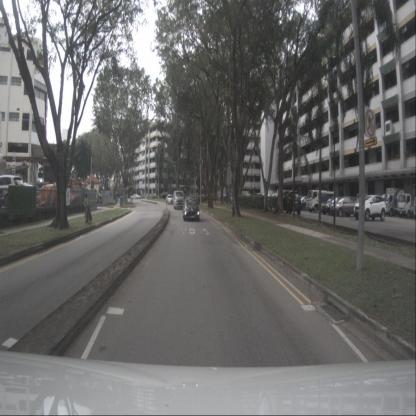human-pedestrian-adult: (83, 193, 92, 223)
vehicle-car: (0, 174, 25, 210), (353, 195, 386, 221), (330, 195, 359, 217), (279, 191, 301, 215), (182, 196, 199, 222), (325, 197, 348, 216), (173, 190, 185, 210), (166, 194, 174, 204)
vehicle-truck: (382, 187, 406, 217), (306, 190, 334, 213), (397, 194, 416, 219)
